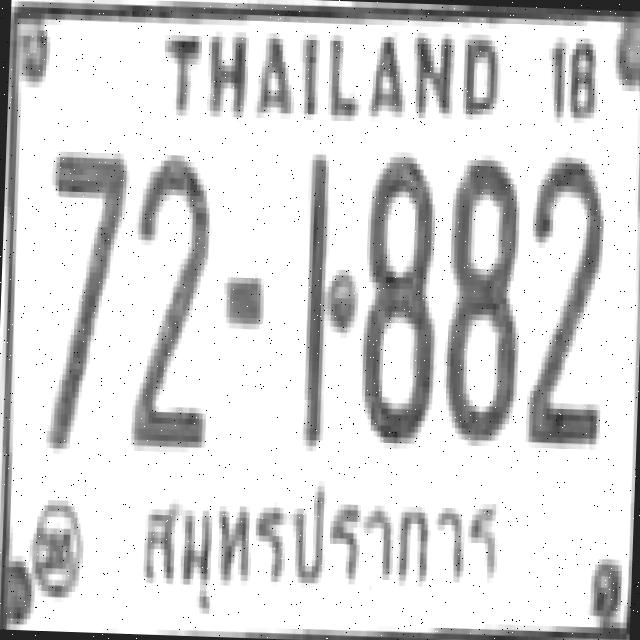1: (298, 148, 332, 446)
2: (125, 148, 213, 448), (523, 150, 604, 444)
7: (40, 142, 128, 448)
8: (357, 150, 437, 438), (441, 153, 521, 441)
SamutPrakan: (135, 463, 508, 625)
